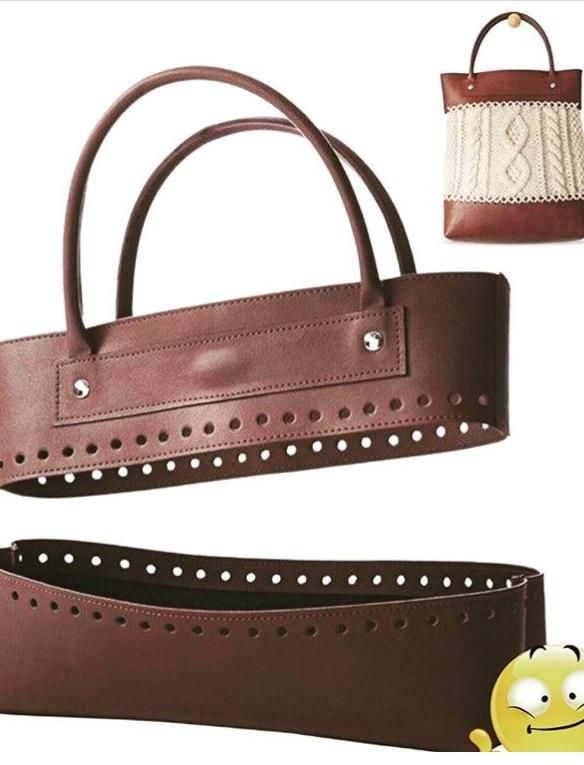cuero: (3, 13, 584, 753)
